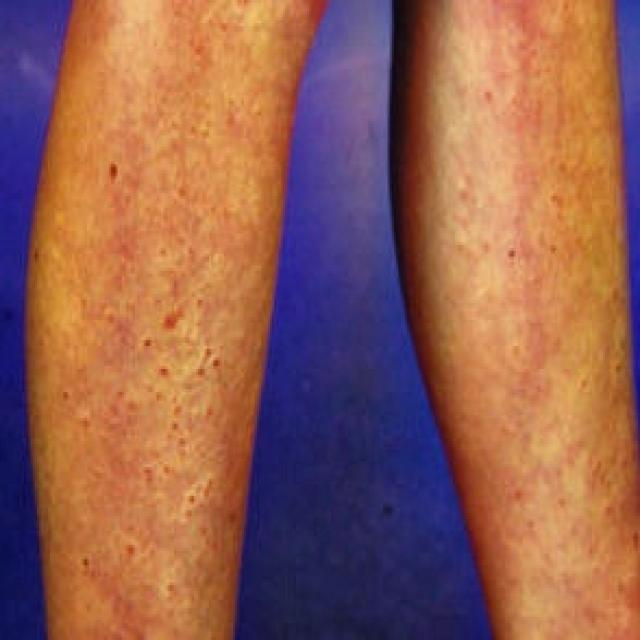Warts-Molluscum-and-other-Viral-Infections: (80, 85, 239, 595), (469, 23, 566, 350)
